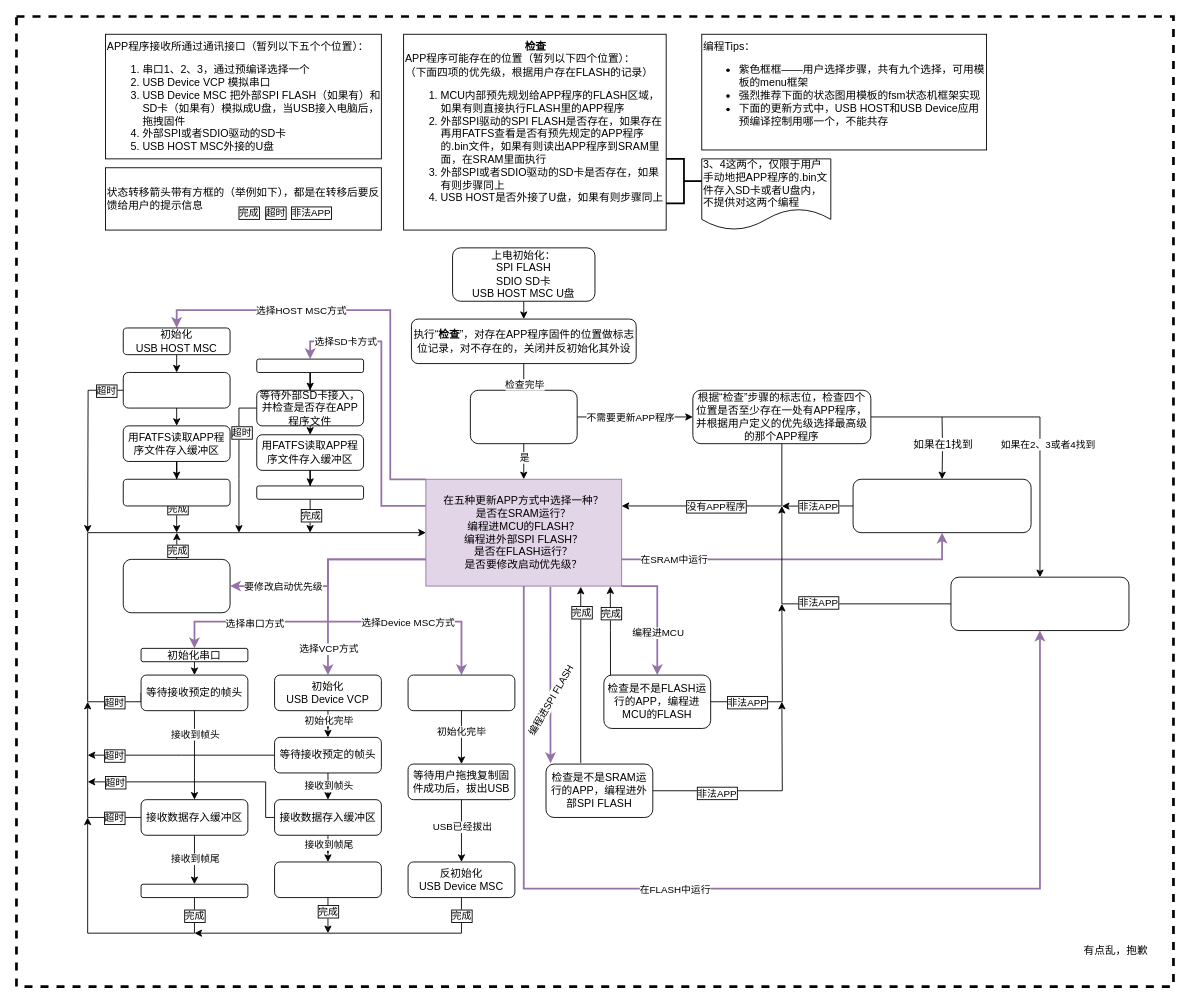
This 1190x1003 diagram has some shape labels left out. Here are the shapes that lost their labels. From the top down, the box of each, then its label:
(256, 358, 364, 372): 初始化SDIO
(122, 372, 230, 408): 等待外部U盘接入，并检查是否存在APP程序文件
(469, 389, 577, 444): 检测是否要更新程序（可以是检测IO电平或者是通讯接口的一个命令等等）
(122, 478, 230, 506): 反初始化 USB HOST MSC
(256, 485, 364, 499): 反初始化SDIO
(852, 478, 1031, 533): 检查APP头地址是否正确 关闭IAP所用到的所有中断和外设和IO口并反初始化， 跳转进在FLASH运行的APP程序
(122, 558, 230, 613): 用户修改启动位置的顺序，并存在FLSH靠后的一个字节做记录
(950, 576, 1129, 631): 检查APP头地址是否正确 关闭IAP所用到的所有中断和外设和IO口并反初始化， 跳转进在SRAM运行的APP程序
(407, 674, 515, 711): 初始化 USB Device MSC
(140, 883, 248, 898): 反初始化串口
(274, 861, 381, 898): 反初始化 USB Device VCP
